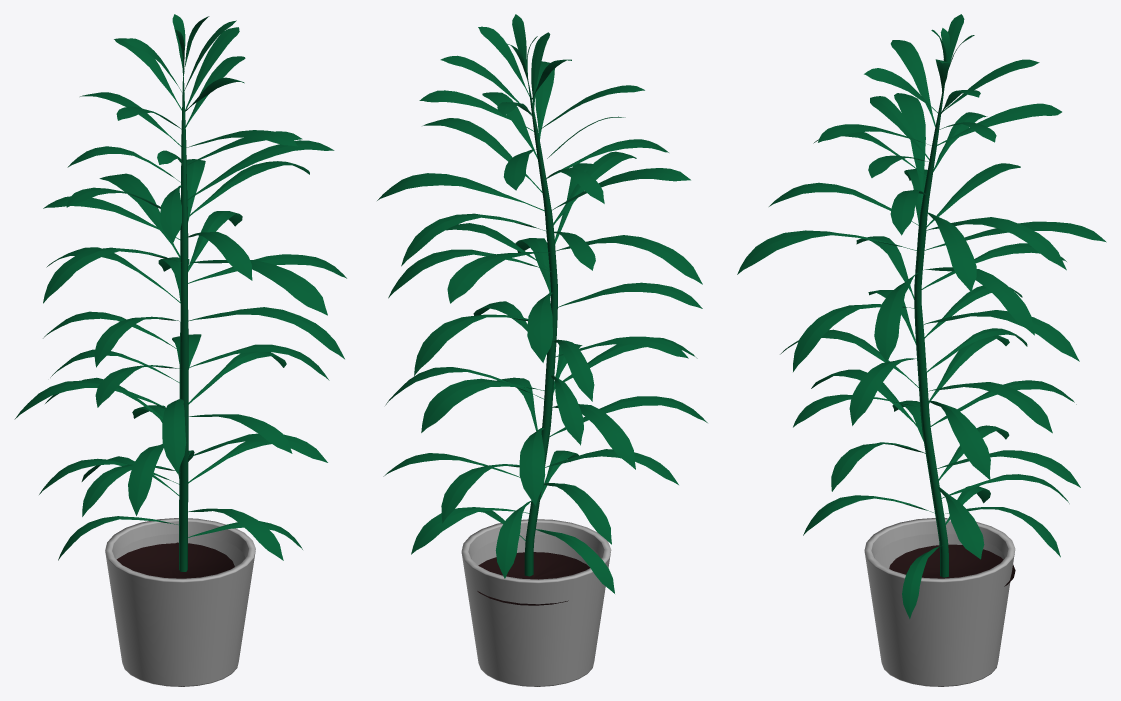
Rendered from mdplant2.glb.
3 views of the same model, side by side, from view 1: azimuth 30°, elevation 25°; view 2: azimuth 150°, elevation 25°; view 3: azimuth 270°, elevation 25° (orthographic).
Parts seen in each view (by area): view 1: Object_13; view 2: Object_13; view 3: Object_13.
Part boxes in pixels (x1=…): Object_13: x1=14, y1=14, x2=346, y2=686; Object_13: x1=377, y1=14, x2=707, y2=686; Object_13: x1=737, y1=14, x2=1106, y2=686.
Bounding box in the file's own units: 0.6027 × 1.24 × 0.6473.
